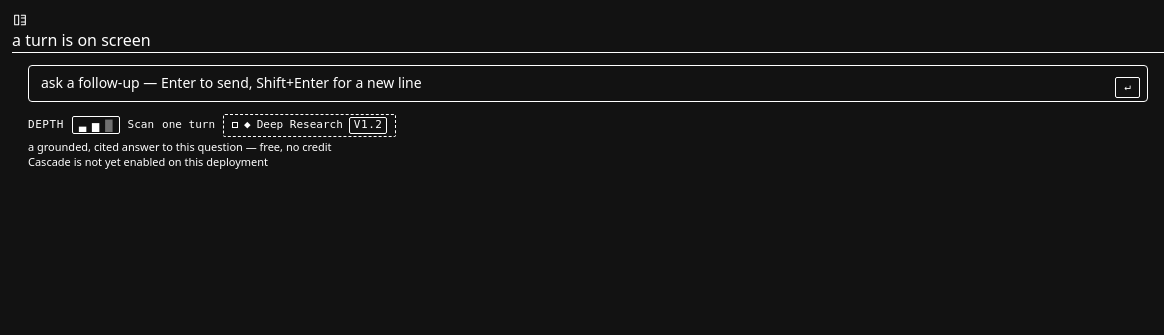
Test: TemplateLibrary: reachable in every state (D-UX-1) › closes on choose and on an outside click
This screenshot has width=1164, height=335.
Click the button named "template library".
click(20, 20)  # box [12,12,28,28]
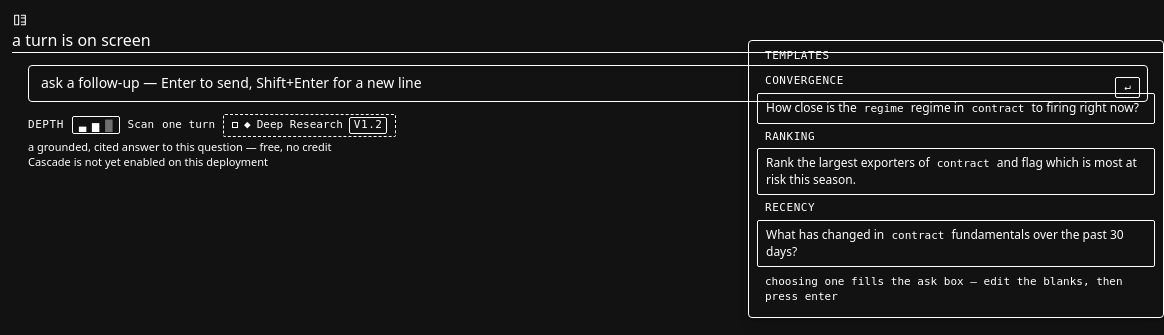
Click the button that starts with "Rank the largest exporters of".
click(956, 172)  # box [757,148,1155,195]
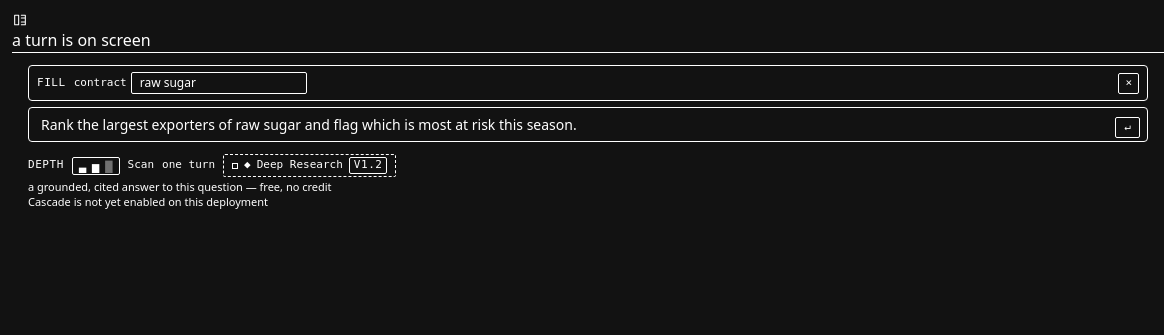
Expected: the element with test id "template-library" is gone
Click the button named "template library".
click(20, 20)  # box [12,12,28,28]
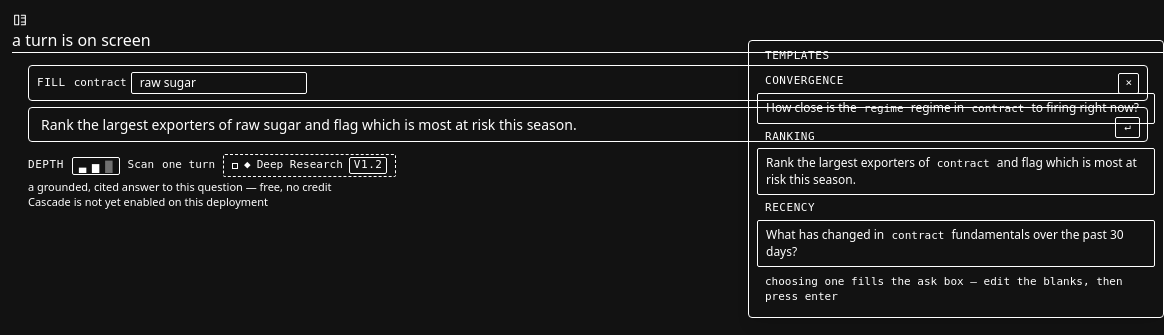
Click the text with test id "live-thread".
click(81, 40)  # box [12,29,151,51]
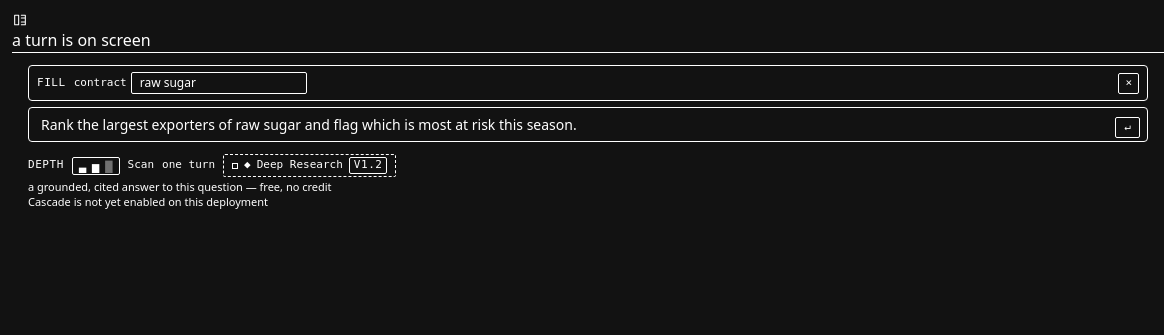
Expected: the element with test id "template-library" is gone
